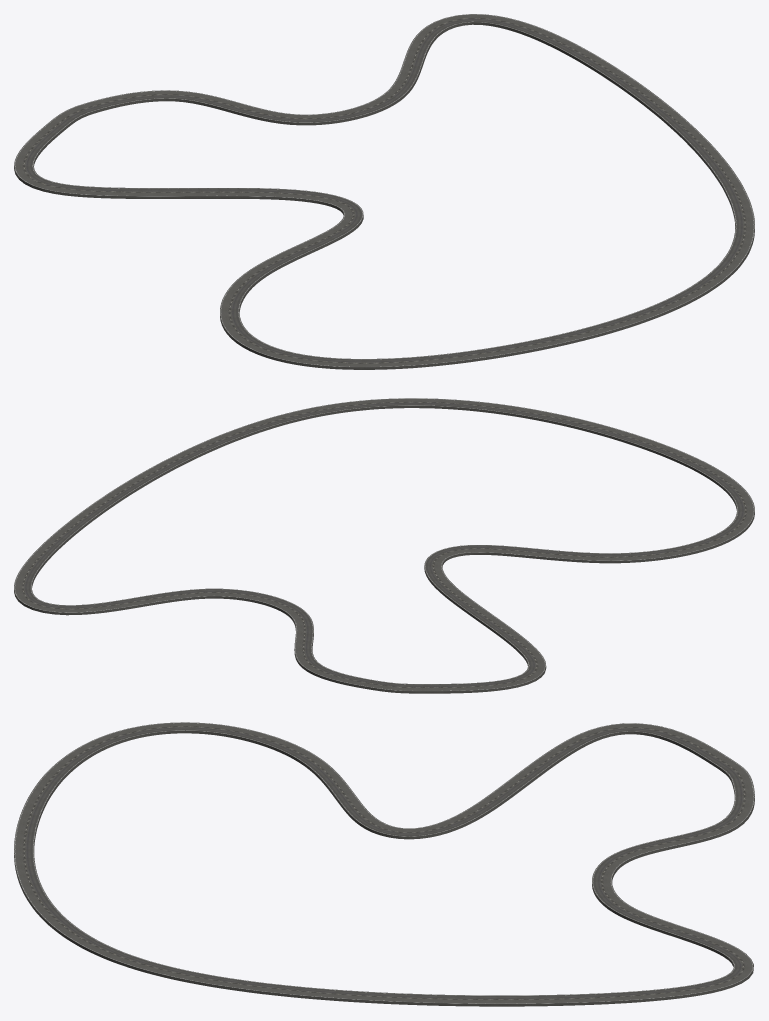
The model's file is Road.obj.
The picture shows the model from 3 angles, top to bottom: view 1: azimuth 30°, elevation 25°; view 2: azimuth 150°, elevation 25°; view 3: azimuth 270°, elevation 25°; orthographic projection. The views are drawn at different scales.
Visible parts, largest first — view 1: Plane.002_Plane.004; view 2: Plane.002_Plane.004; view 3: Plane.002_Plane.004.
Boxes of the visible parts, x1,y1,x2,y2 form: Plane.002_Plane.004: [14, 14, 754, 369]; Plane.002_Plane.004: [14, 398, 754, 693]; Plane.002_Plane.004: [14, 722, 754, 1006].
Size of the model in its own units: 11.54 by 0.1105 by 12.83.
